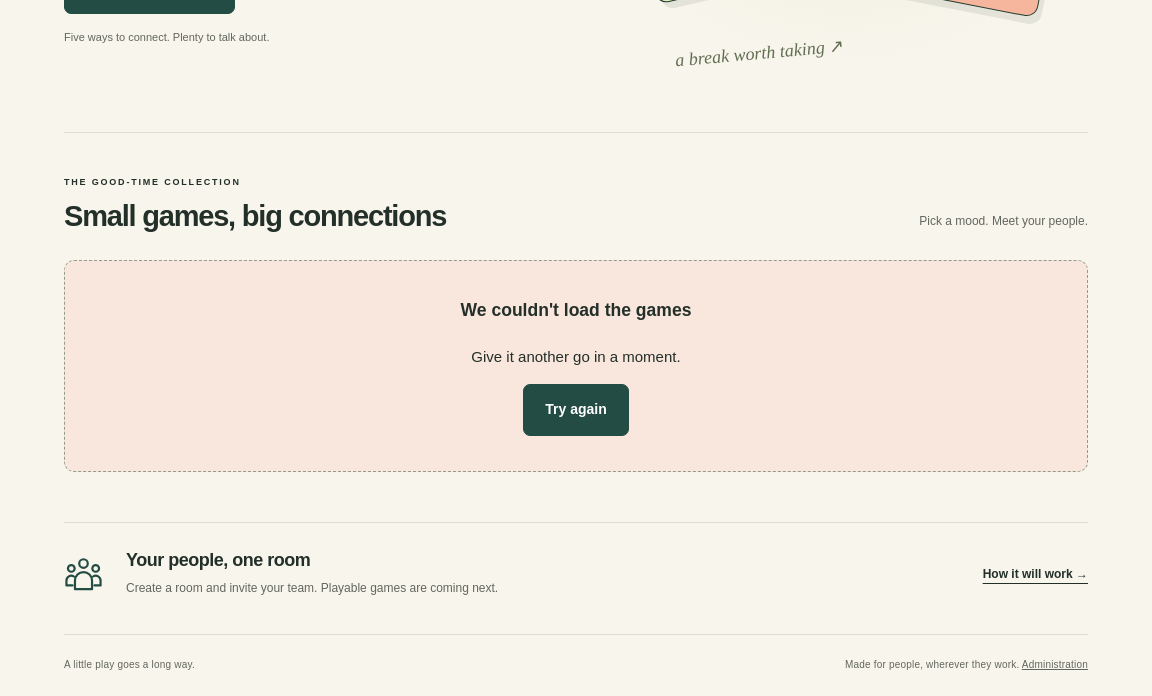
application shell › recovers from a load failure at /
(page scrolled)
Expected: the message shows "We couldn't load the games", x1=461 y1=300 x2=691 y2=320
Click the button "Try again": {"x": 576, "y": 410} x1=523 y1=384 x2=629 y2=436
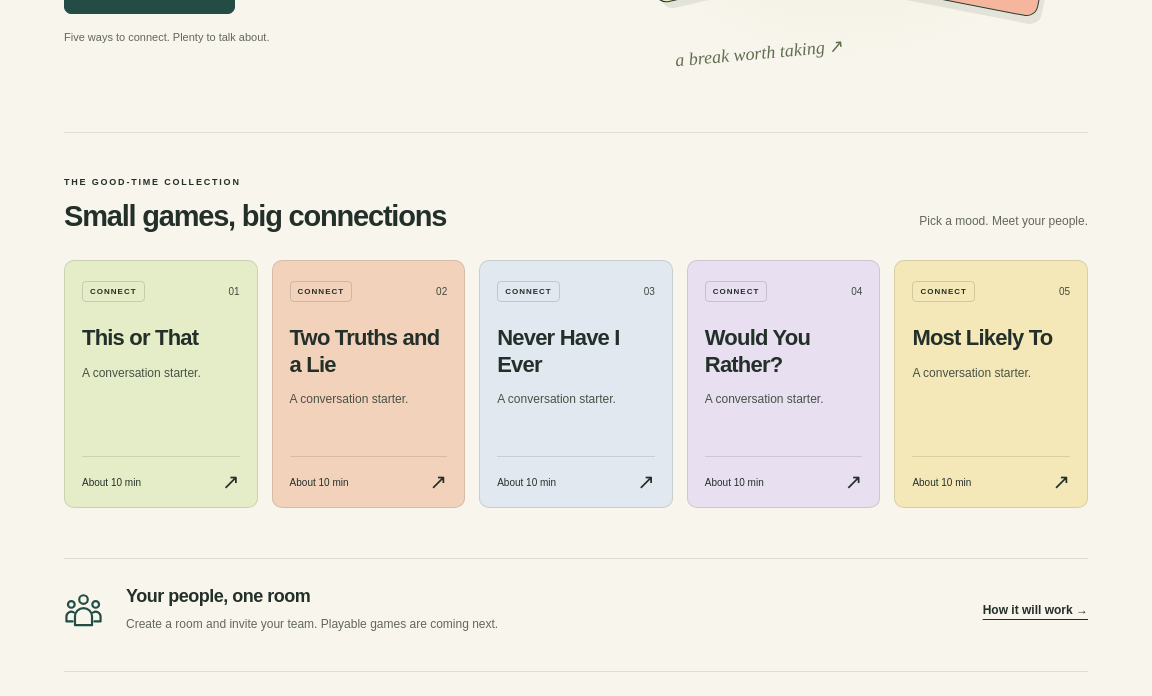
Expected: the heading "This or That" is shown, x1=82 y1=325 x2=198 y2=350
Expected: the message "We couldn't load the games Give it another go in a moment. Try again" is gone
